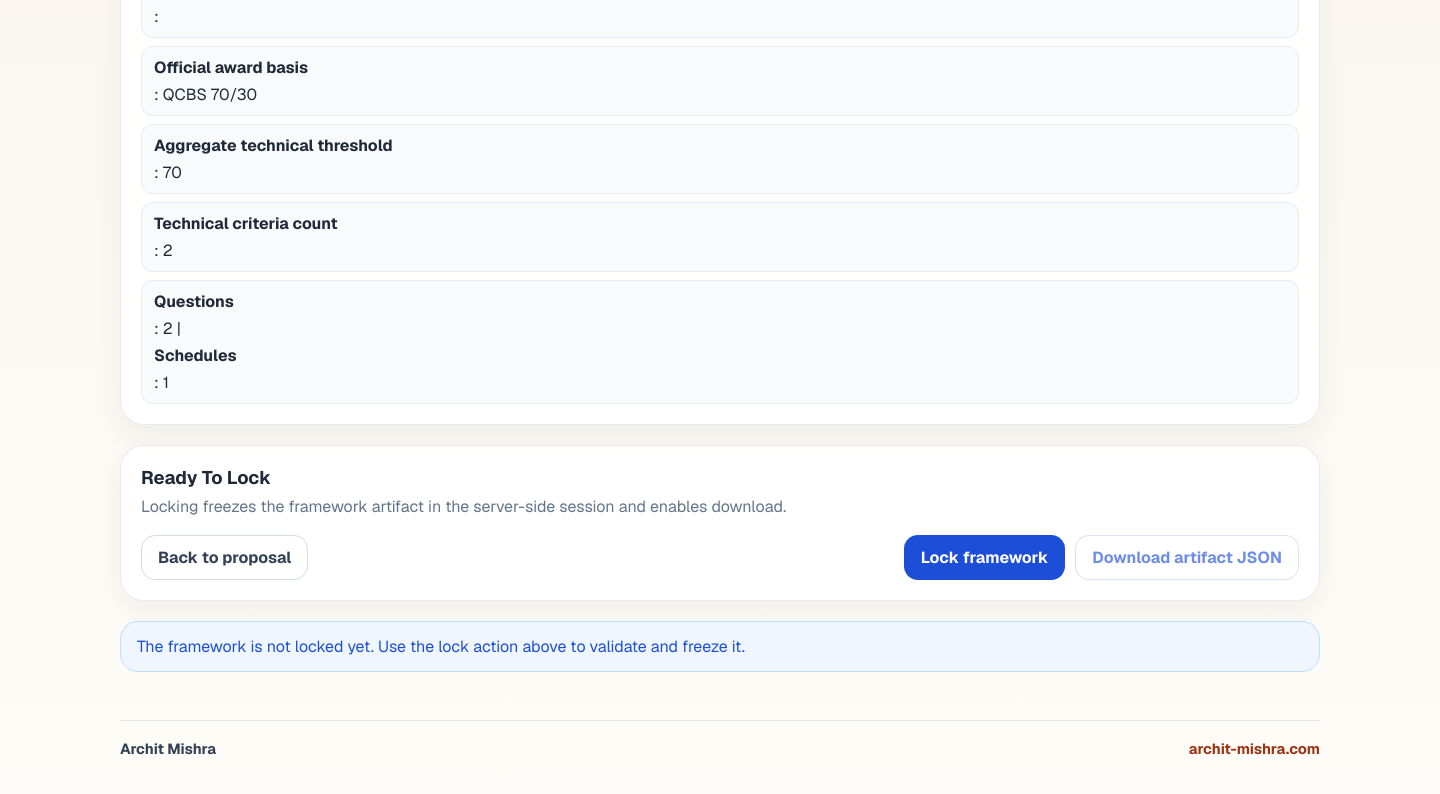
Test: RfqWizard › surfaces field-level validation errors on the lock screen
(page scrolled)
Click the button "Lock framework".
click(984, 558)  # box [904,535,1065,580]
(page scrolled)
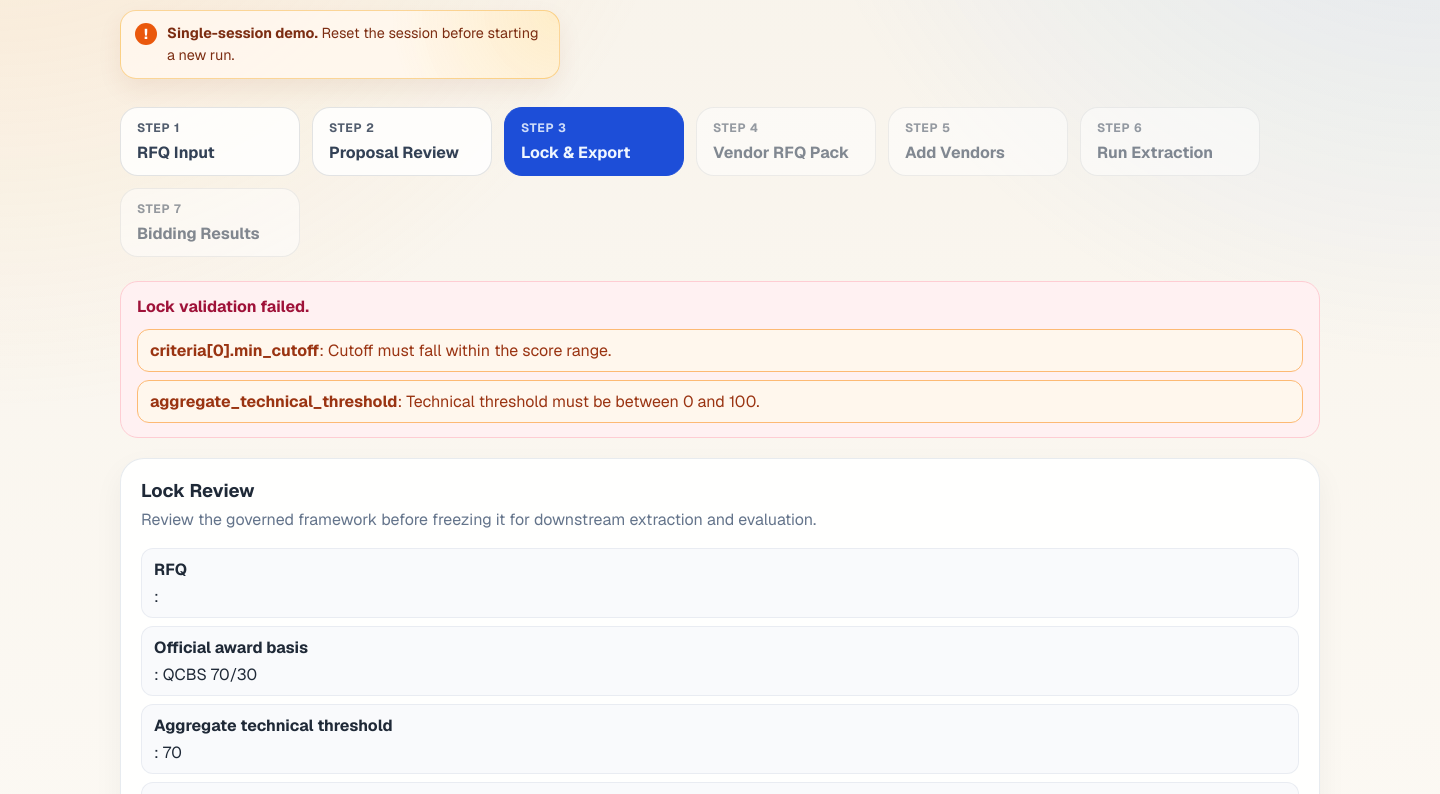
Expected: the text "Lock validation failed." is shown, [137,296,309,317]
Expected: the text "criteria[0].min_cutoff" is shown, [150,340,319,361]
Expected: the text "aggregate_technical_threshold" is shown, [150,391,397,412]
